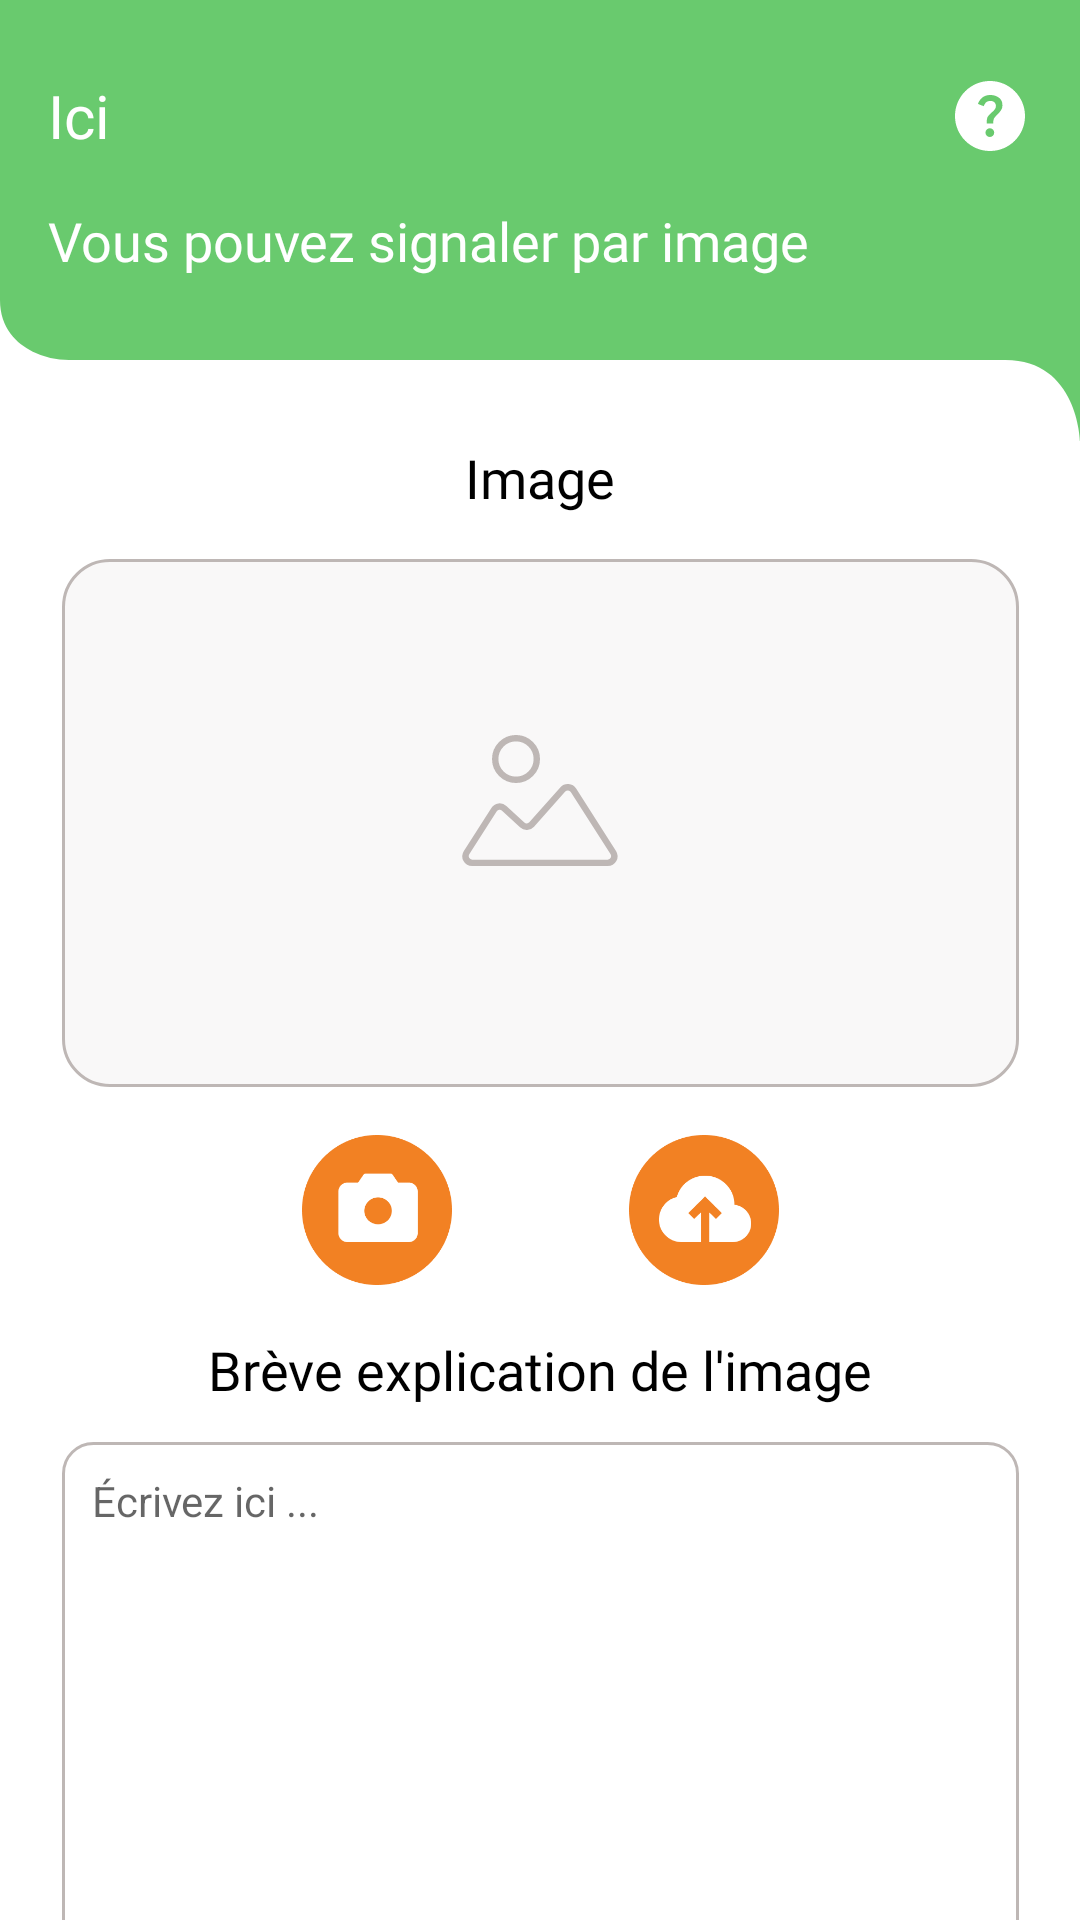

Where icons sit on this 1080w x 1920h app screen, as rect(x1, y1, x2, y2):
question: rect(955, 81, 1025, 151)
takepicture: rect(302, 1135, 452, 1285)
upload: rect(629, 1135, 779, 1285)
